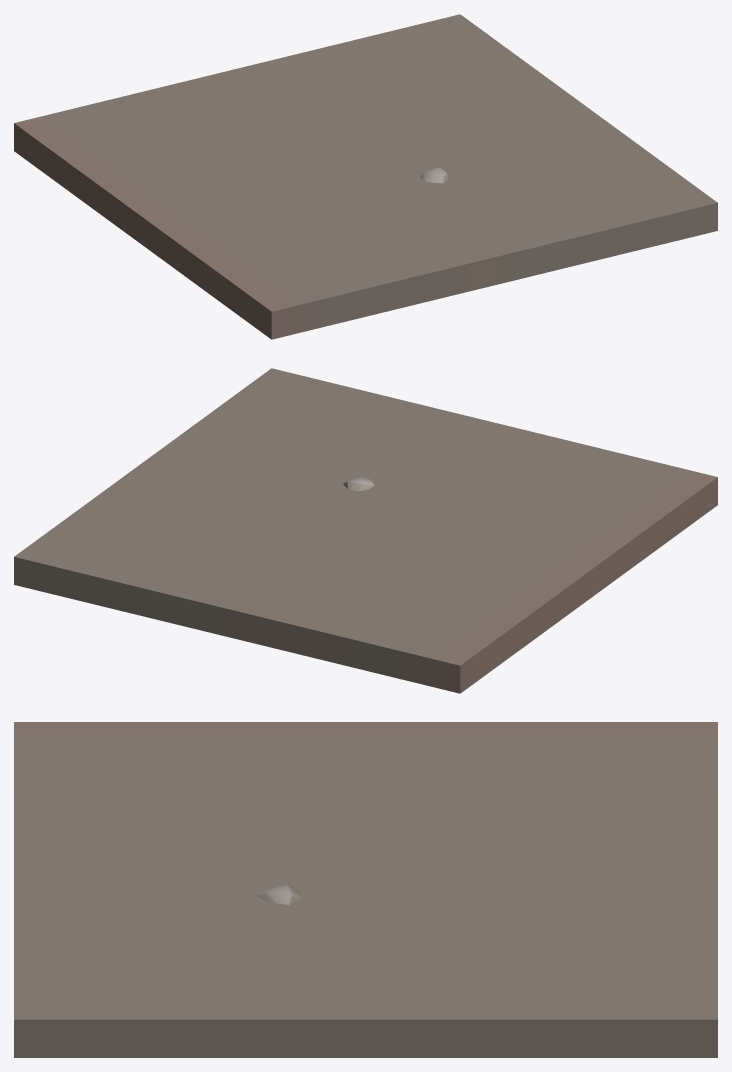
The model's file is floor_dirt_small_d.glb.
3 renders of one model, top to bottom at view 1: azimuth 30°, elevation 25°; view 2: azimuth 150°, elevation 25°; view 3: azimuth 270°, elevation 25°, orthographic. The views are drawn at different scales.
Parts seen in each view (by area): view 1: floor_dirt_small_D; view 2: floor_dirt_small_D; view 3: floor_dirt_small_D.
Part boxes in pixels (x1,y1,x2,y2): floor_dirt_small_D: [14, 14, 717, 339]; floor_dirt_small_D: [14, 368, 717, 693]; floor_dirt_small_D: [14, 722, 717, 1057].
Size of the model in its own units: 2 by 0.1384 by 2.
Materials: 1 (1 with a texture image).
